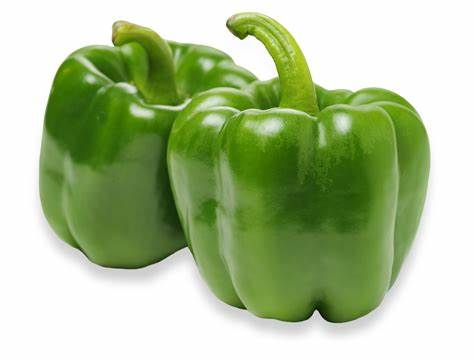Bell Pepper: (20, 2, 437, 335)
